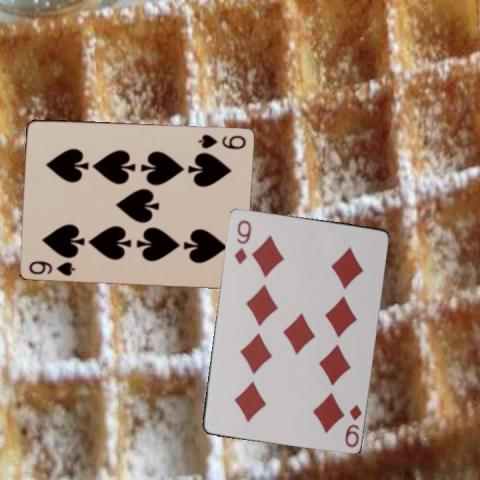9d: (341, 400, 362, 449), (231, 217, 252, 265)
9s: (195, 131, 248, 150), (27, 257, 77, 277)
